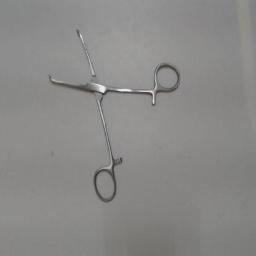Allis Tissue Forceps: (44, 20, 182, 206)
